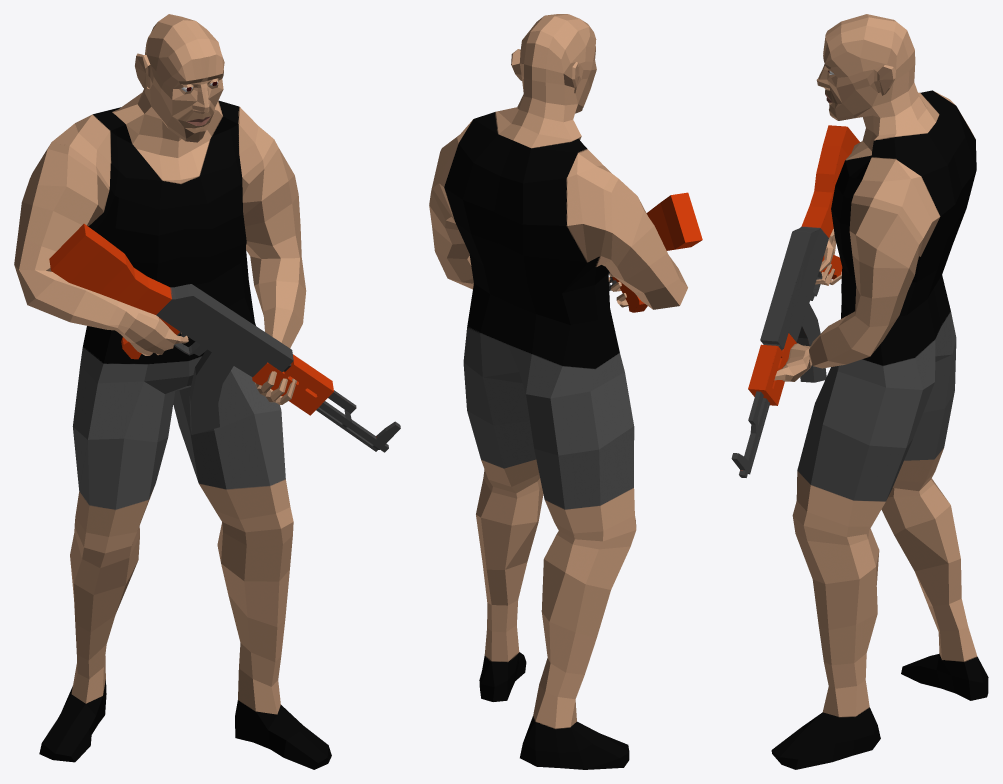
The model's file is PlayerIdle(202).obj.
3 views of the same model, side by side, from view 1: azimuth 30°, elevation 25°; view 2: azimuth 150°, elevation 25°; view 3: azimuth 270°, elevation 25° (orthographic). The views are drawn at different scales.
Parts seen in each view (by area): view 1: Plane002, Object001; view 2: Plane002, Object001; view 3: Plane002, Object001.
Boxes of the visible parts, x1,y1,x2,y2 form: Plane002: [14, 14, 331, 769]; Object001: [49, 223, 400, 452]; Plane002: [429, 14, 687, 769]; Object001: [608, 192, 702, 312]; Plane002: [771, 14, 988, 769]; Object001: [731, 125, 859, 477].
Size of the model in its own units: 756 by 1797 by 597.
